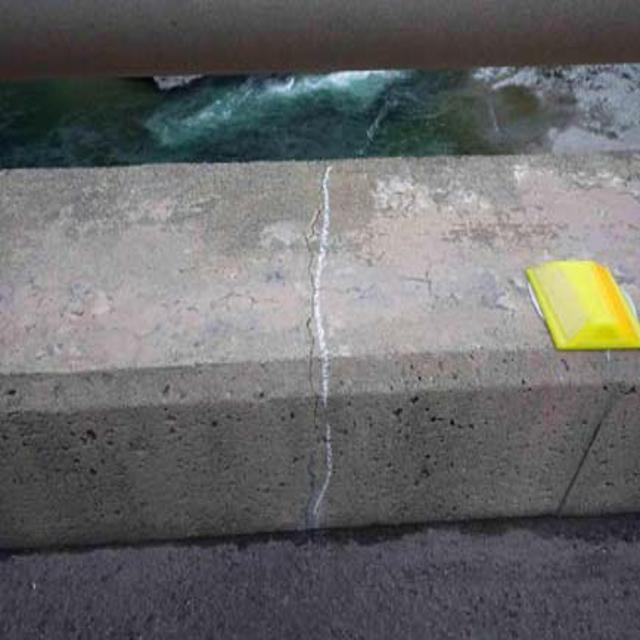crack: (277, 163, 347, 506)
